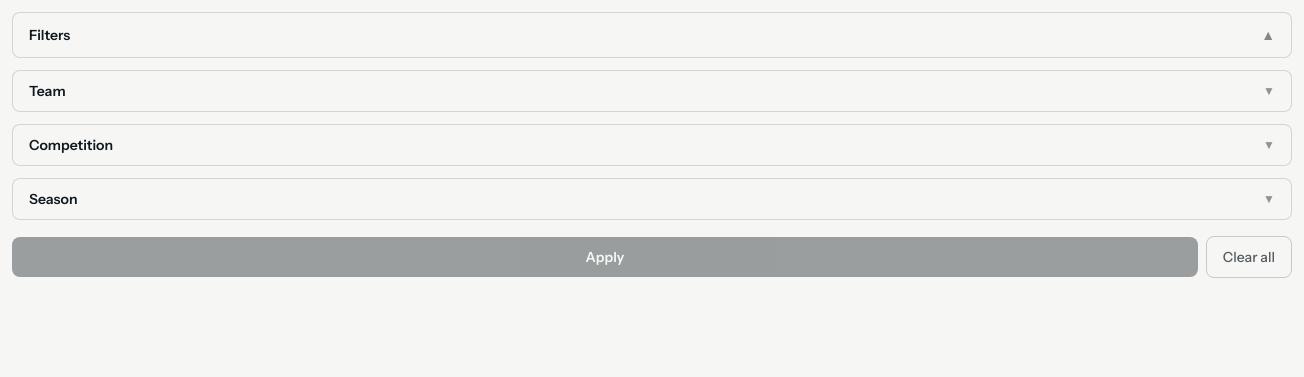
it: FilterPanel › shows a loading state for the lists while options load
Click the button "Team ▼".
click(47, 91)  # box [12,70,1292,112]
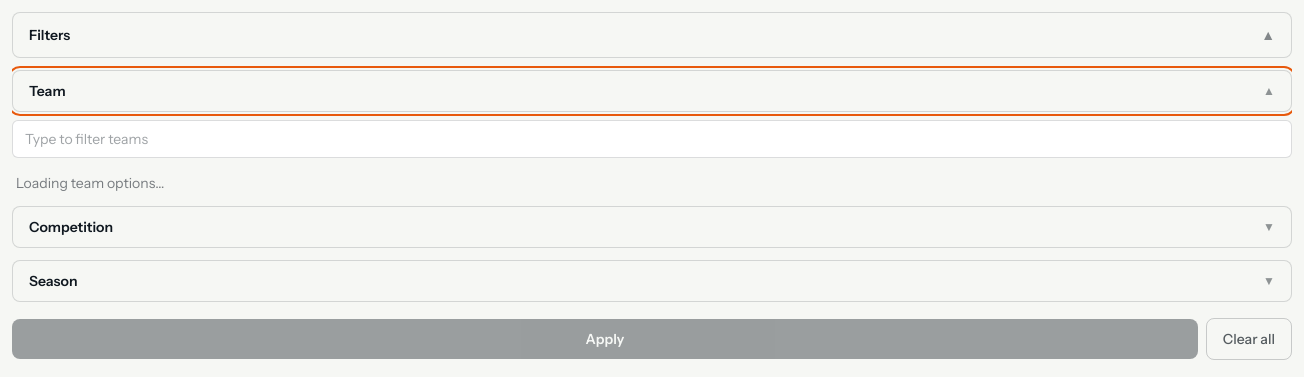
Check: the text "Loading team options…" is shown, box [16,174,164,192]
